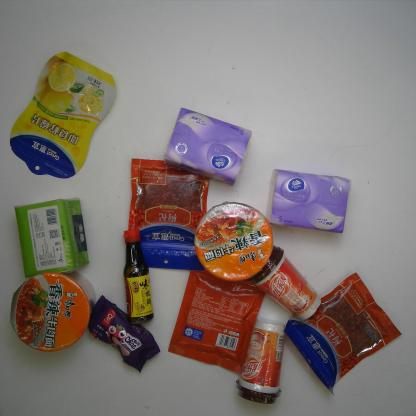Dessert: (87, 295, 161, 372)
Dried Fruit: (283, 268, 403, 396), (9, 49, 119, 181), (165, 261, 265, 376), (127, 158, 210, 272)
Instant Drink: (249, 245, 323, 322), (237, 315, 287, 407)
Instant Noodles: (8, 271, 96, 353), (191, 199, 275, 283)
Seasoner: (120, 227, 156, 326)
Tissue: (161, 103, 254, 185), (264, 162, 355, 237), (13, 194, 91, 279)
